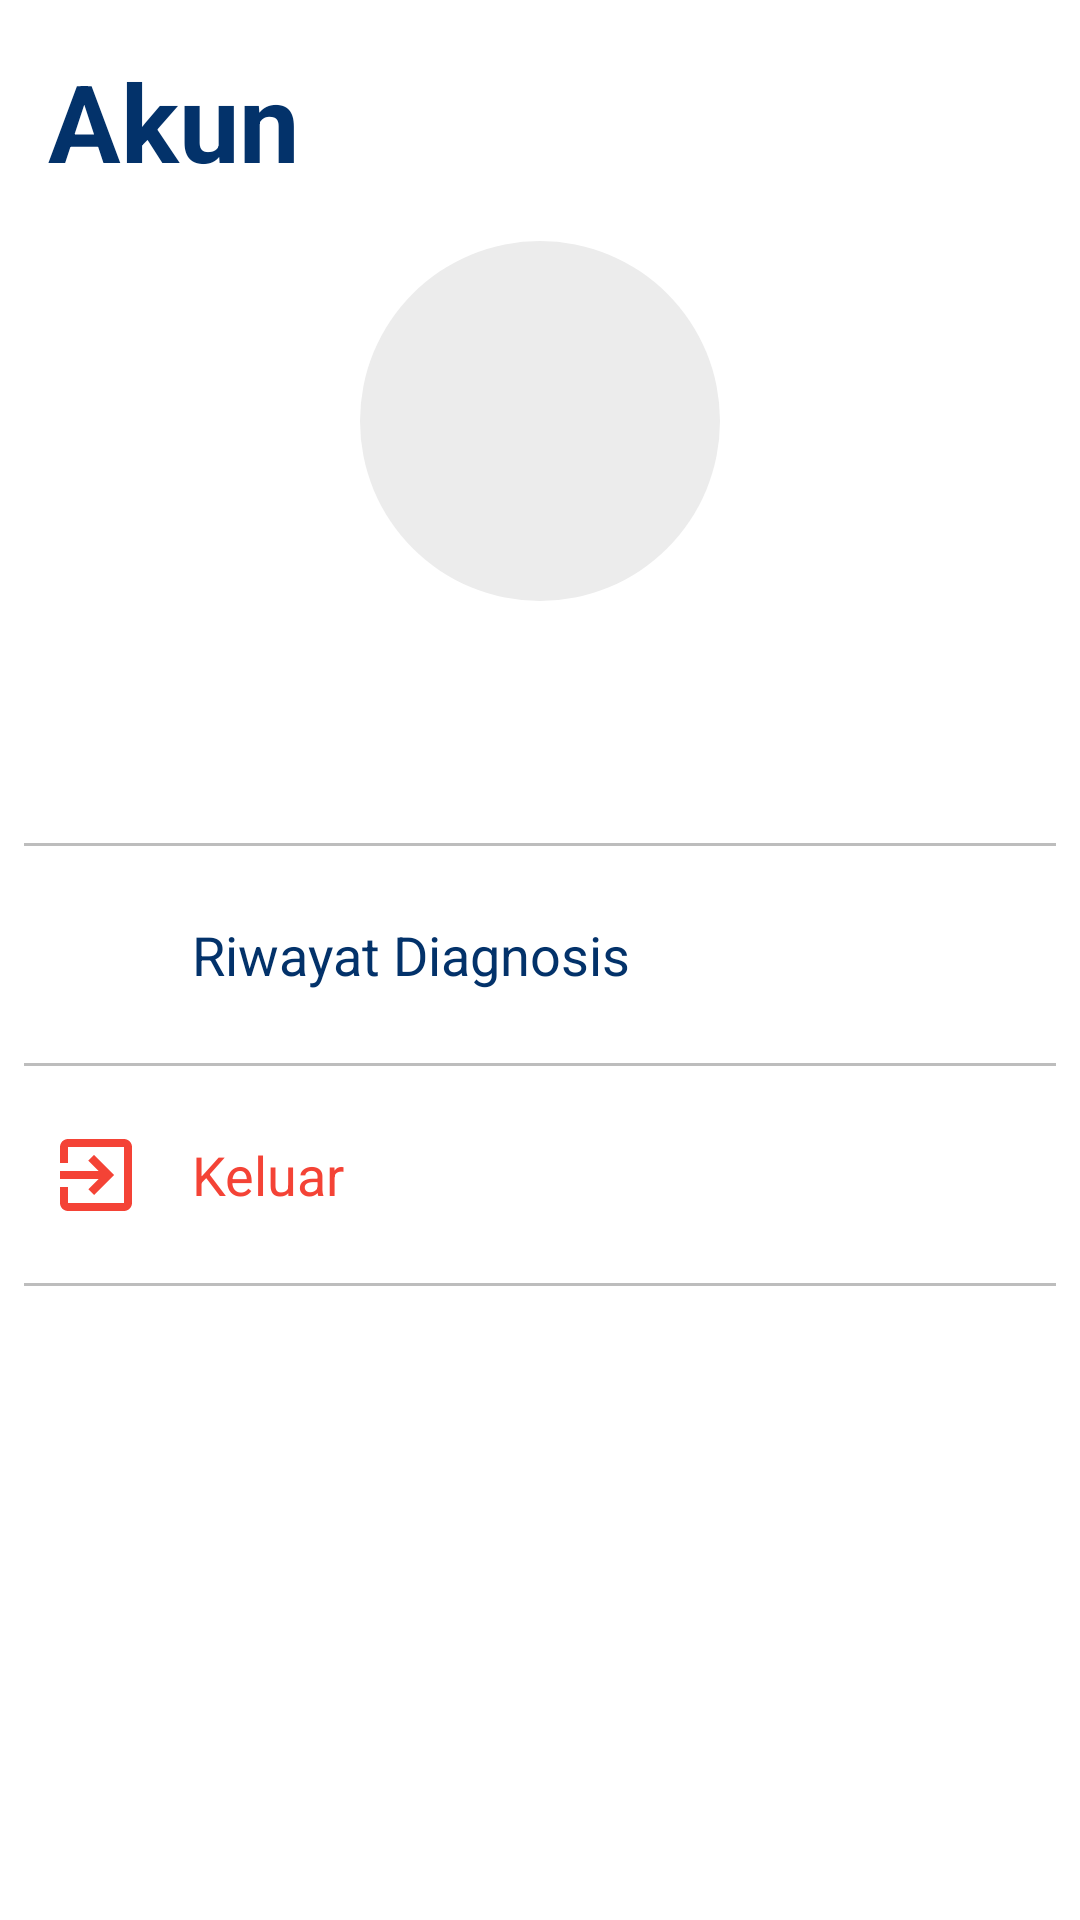

Locate icon controls on the screen. Image size 1080 × 1920, boxes as (x1=x1, y1=y1, x2=x2, y2=y2).
exit to app: (x1=60, y1=1139, x2=132, y2=1211)
